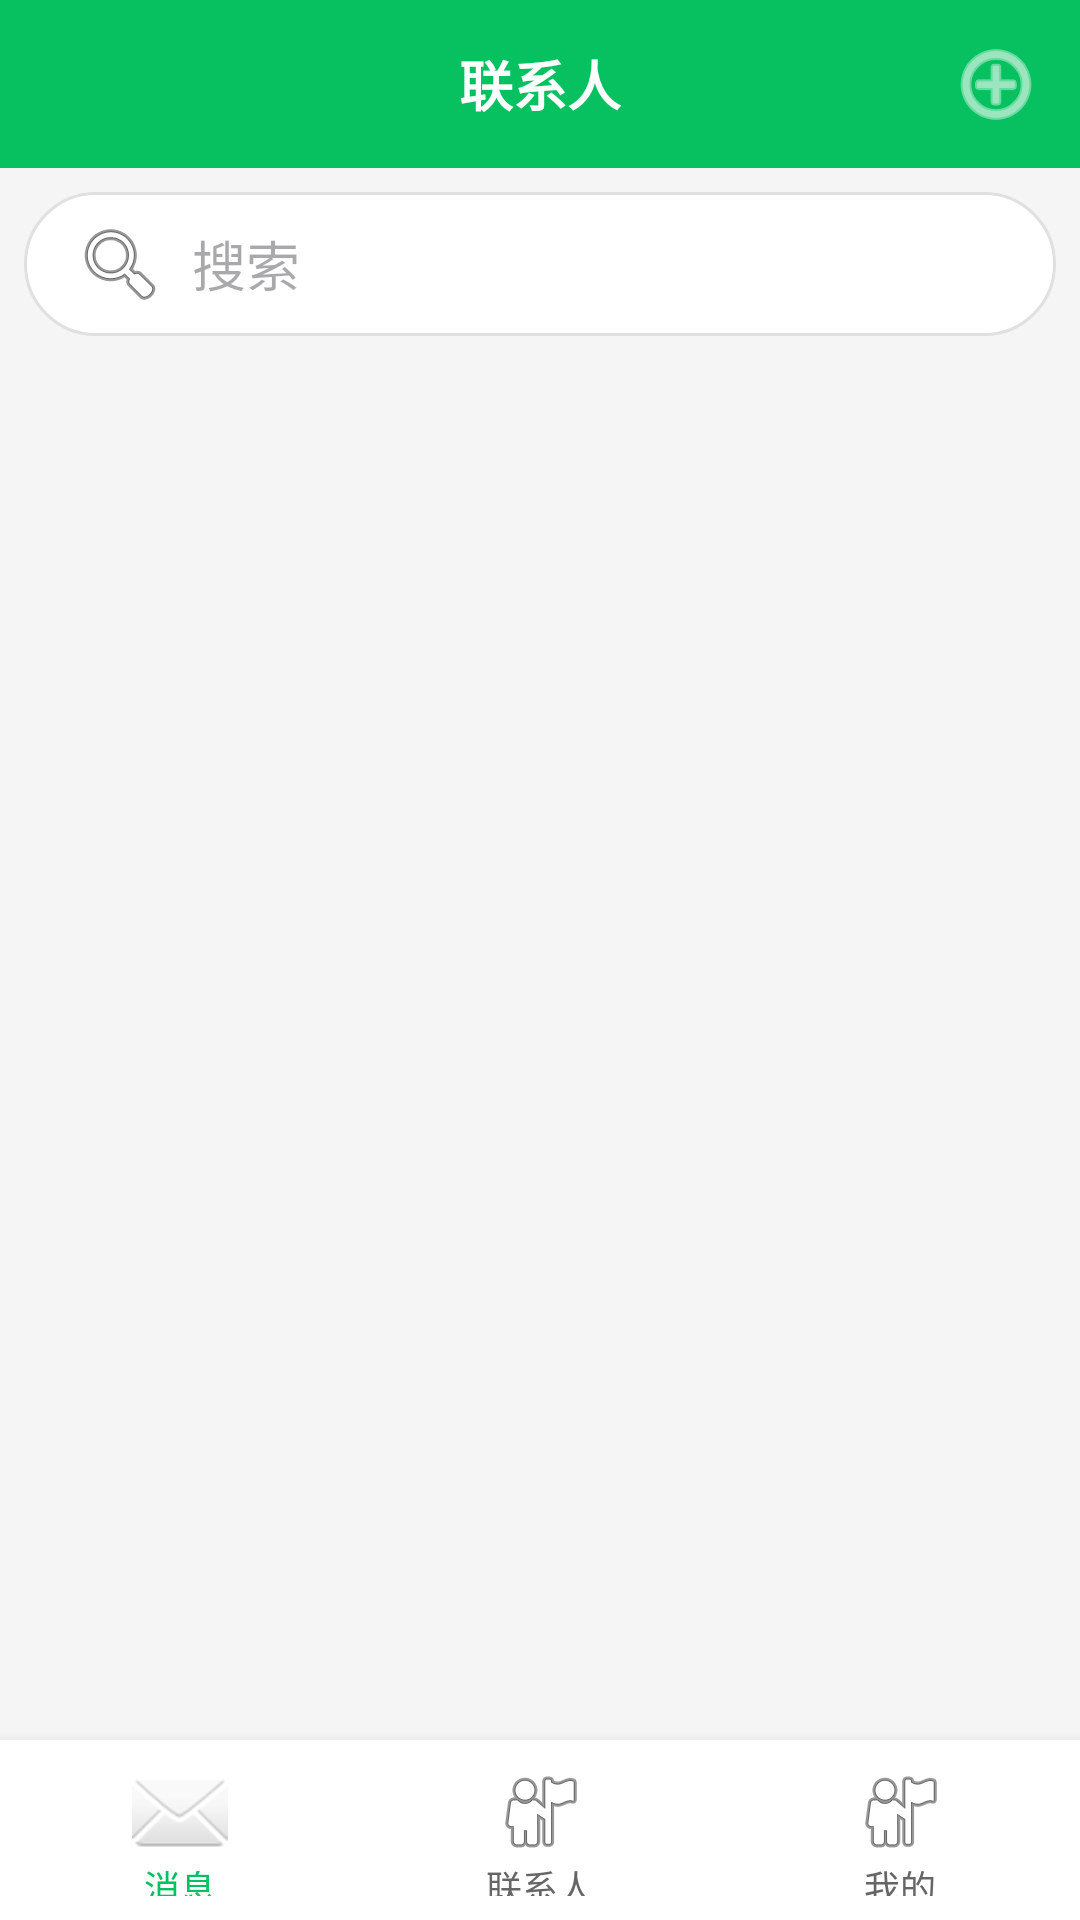

Point at icon controls on the screen. Image size 1080x1920, points as [x,y].
add: [996,84]
